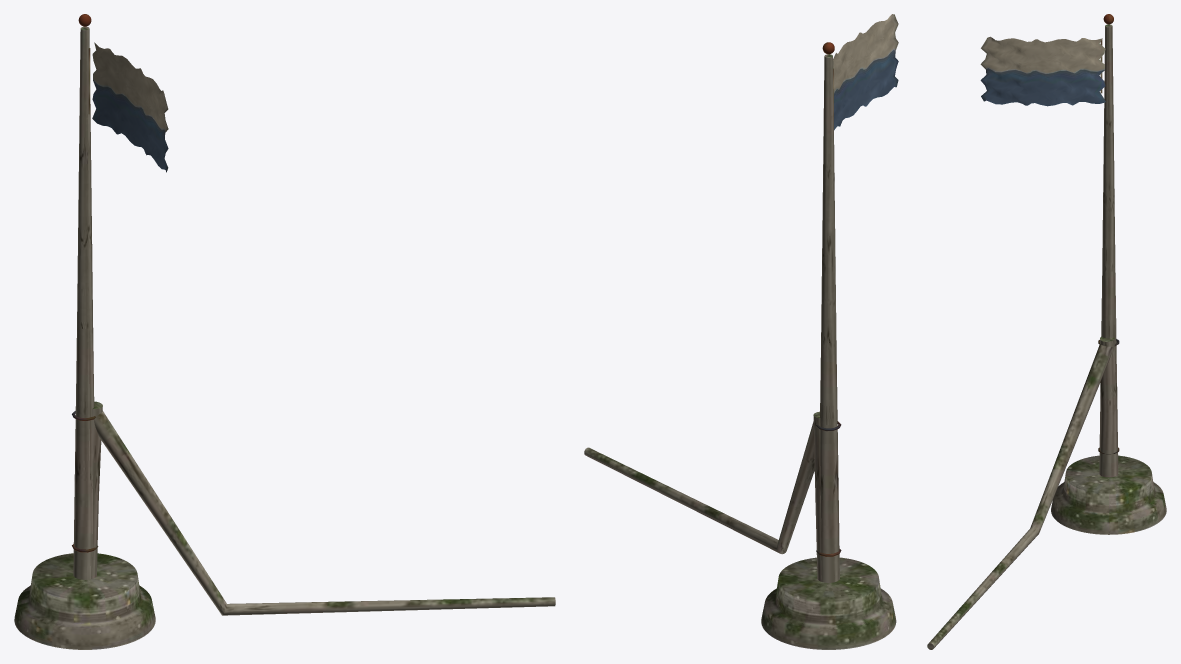
Rendered from starfort_flagstaff_hero.glb.
3 views of the same model, side by side, from view 1: azimuth 30°, elevation 25°; view 2: azimuth 150°, elevation 25°; view 3: azimuth 270°, elevation 25° (orthographic). The views are drawn at different scales.
Parts seen in each view (by area): view 1: intact, breached, flag; view 2: intact, breached, flag; view 3: intact, flag, breached.
Part boxes in pixels (x1=…): intact: x1=14, y1=14, x2=155, y2=649; breached: x1=91, y1=401, x2=555, y2=615; flag: x1=88, y1=42, x2=168, y2=172; intact: x1=761, y1=42, x2=896, y2=649; breached: x1=584, y1=411, x2=821, y2=581; flag: x1=833, y1=14, x2=898, y2=130; intact: x1=1051, y1=14, x2=1166, y2=534; flag: x1=980, y1=36, x2=1105, y2=106; breached: x1=927, y1=336, x2=1118, y2=649.
Size of what is drawn, in the model's own units: 5.4 by 7.37 by 3.23.
Materials: 2 (2 with a texture image).
